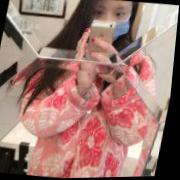WRONG: (86, 1, 137, 47)
